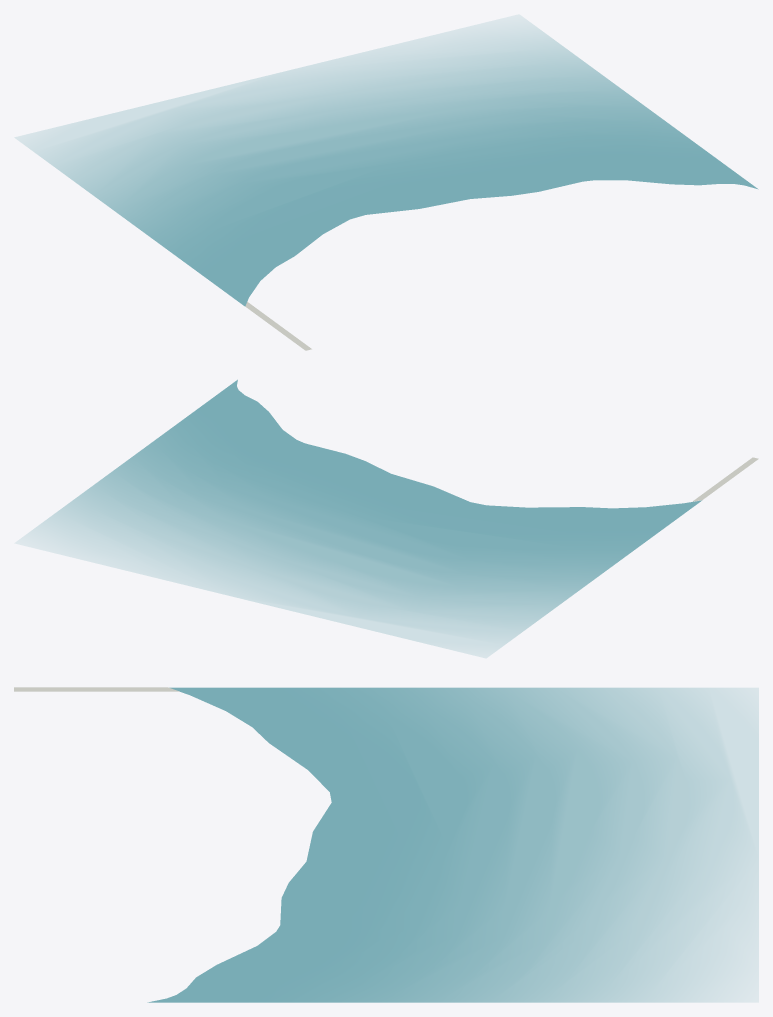
3 renders of one model, top to bottom at view 1: azimuth 30°, elevation 25°; view 2: azimuth 150°, elevation 25°; view 3: azimuth 270°, elevation 25°, orthographic. The views are drawn at different scales.
Parts seen in each view (by area): view 1: city; view 2: city; view 3: city.
Part boxes in pixels (box(x1,y1,x2,y2)): city: box(15, 15, 758, 350); city: box(16, 379, 758, 657); city: box(14, 687, 758, 1002).
Bounding box in the file's own units: 500 × 0.18 × 500.
